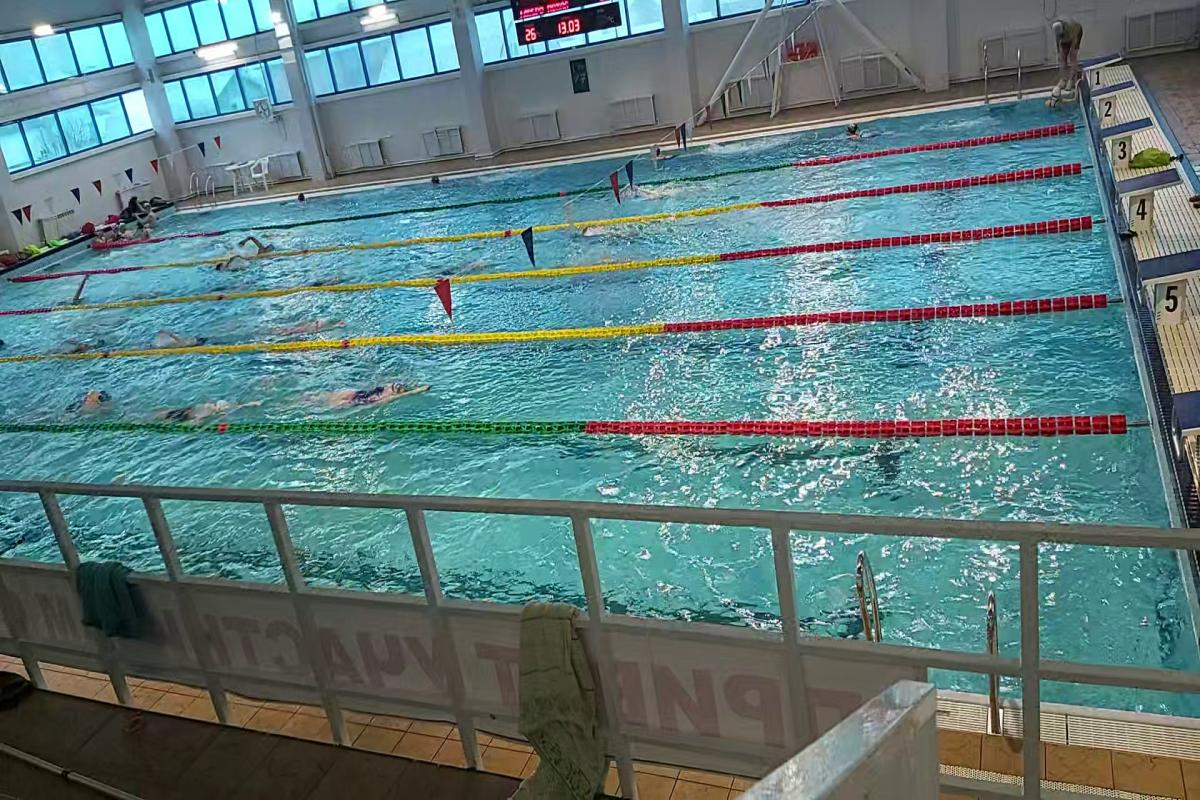swimmer: (296, 370, 448, 411), (152, 388, 260, 419), (66, 387, 127, 423), (266, 309, 351, 334), (146, 319, 216, 348), (53, 324, 115, 355), (622, 178, 699, 201), (59, 273, 109, 306), (203, 255, 252, 280), (240, 234, 278, 254)
